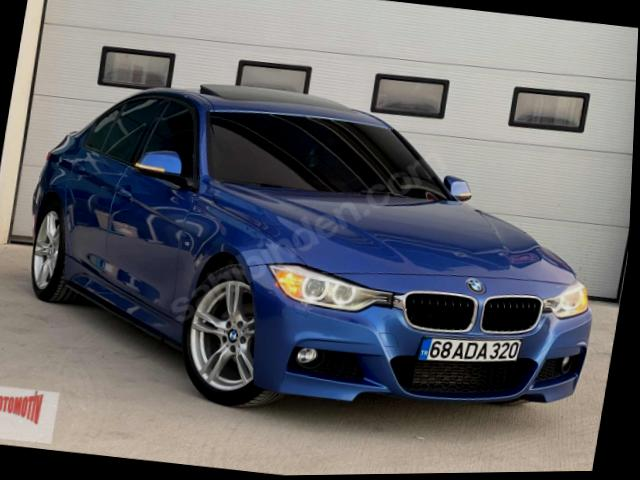plaka: (418, 338, 521, 362)
